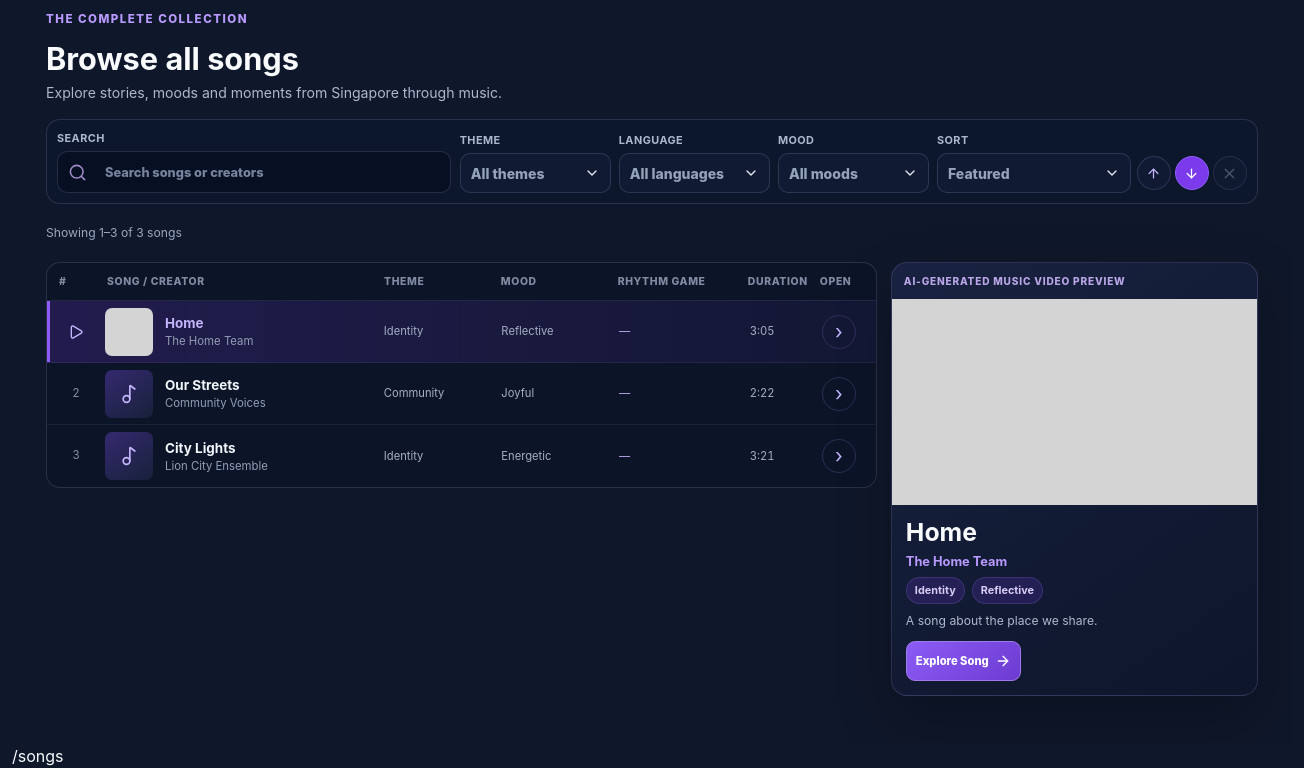
Test: Songs Library › updates preview context from keyboard focus
(page scrolled)
Focus the button named "Select City Lights preview" at (436, 456), box x1=51 y1=429 x2=821 y2=483
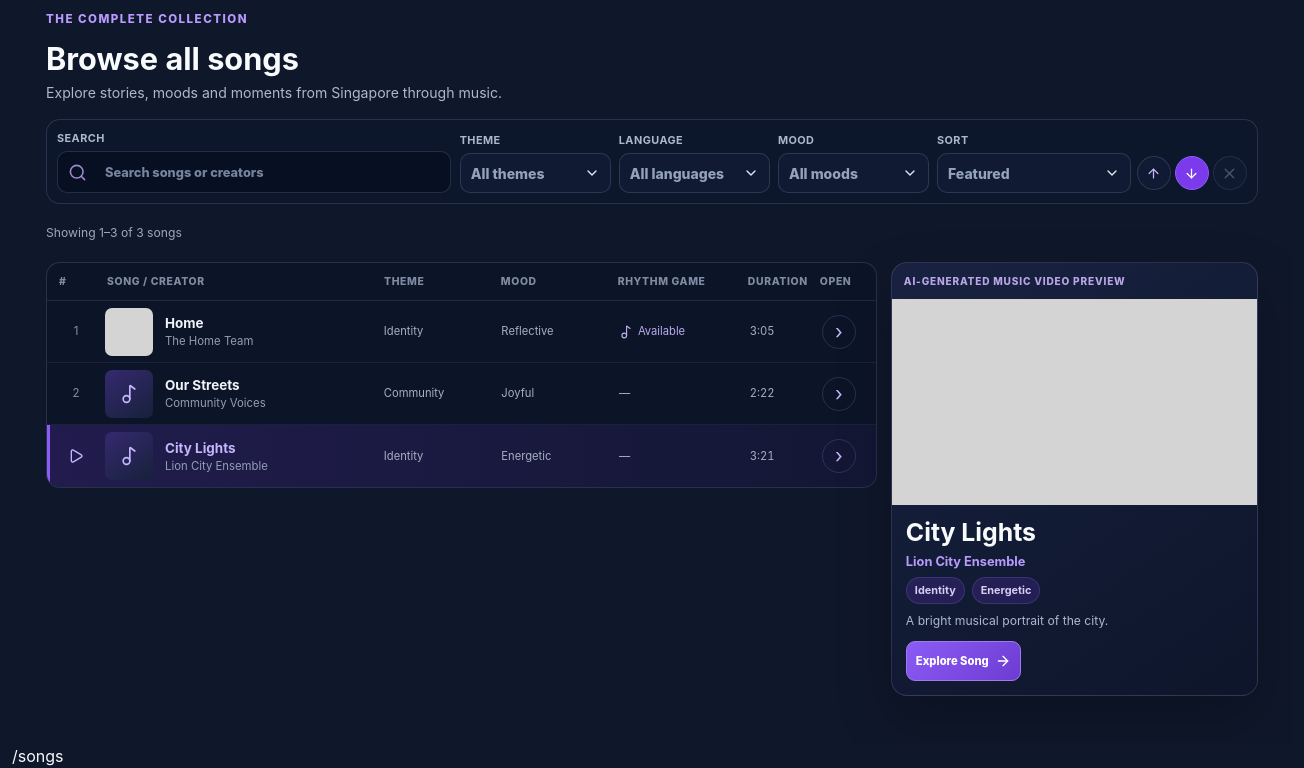
Expected: the element named "Preview for City Lights" is shown, x1=891 y1=262 x2=1258 y2=696
